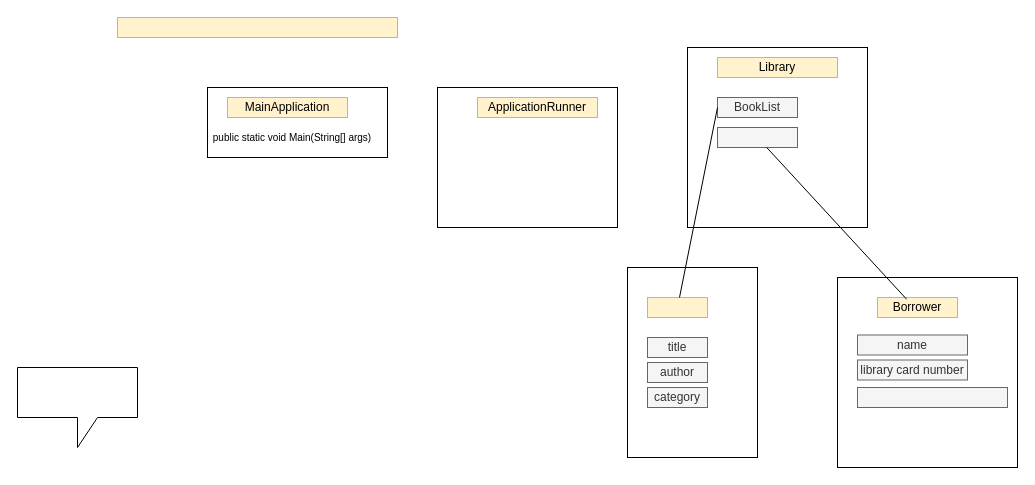
This 1035x485 diagram has some shape labels left out. The box of each missing label's shape, as (x1, y1, x2, y2) in pixels:
Book: (646, 296, 708, 318)
Books currented checked out: (856, 386, 1008, 408)
BorrowerList: (716, 126, 798, 148)
how to make a Categorizer for Books?: (16, 366, 138, 448)
UML Design for The Library Java Application: (116, 16, 398, 38)
